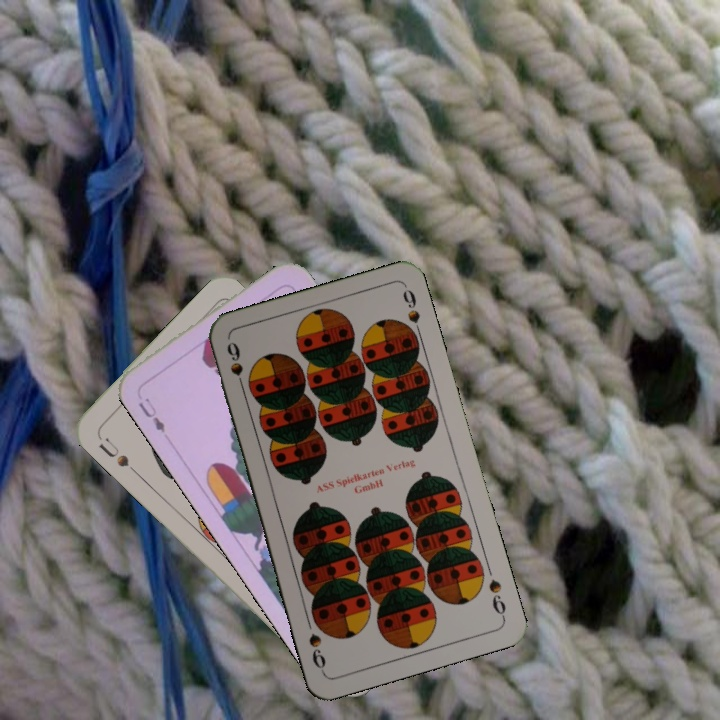EU: (134, 393, 168, 435)
S9: (222, 337, 248, 396), (484, 575, 509, 621)
SU: (94, 433, 141, 477)
